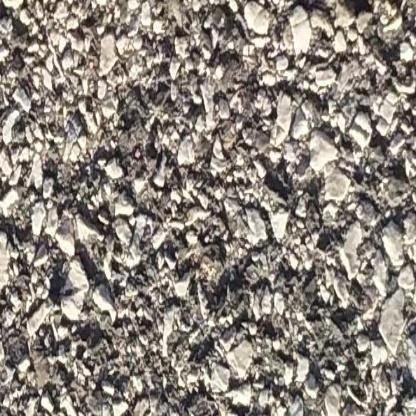Cracks: (337, 0, 393, 8), (0, 0, 24, 16)
